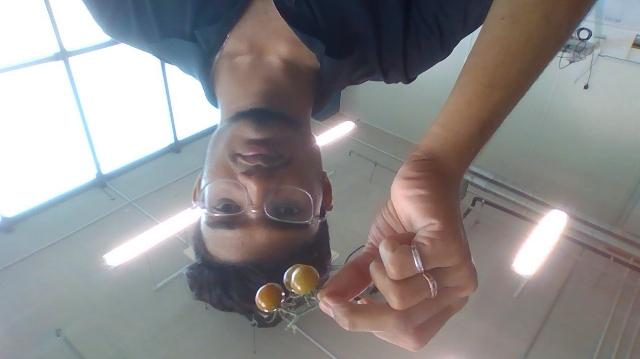Fully Grown: (285, 263, 320, 296), (254, 282, 284, 313)
